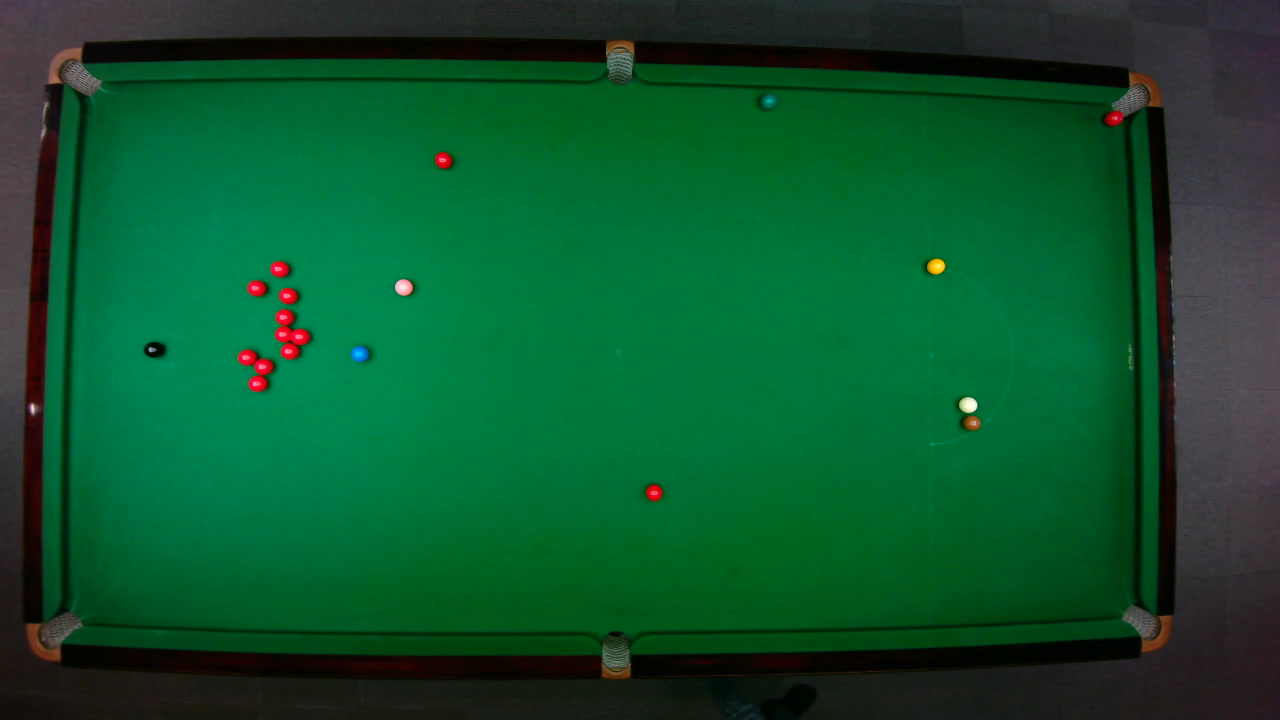bag: (24, 609, 84, 661), (45, 46, 101, 96), (1119, 603, 1171, 652), (1108, 71, 1161, 118), (600, 629, 629, 680), (605, 38, 633, 85)
black: (142, 340, 164, 358)
blue: (349, 344, 370, 362)
brown: (961, 414, 981, 430)
green: (759, 92, 776, 110)
pink: (392, 277, 413, 296)
red: (286, 326, 311, 345), (236, 347, 258, 366), (252, 356, 274, 375), (245, 278, 267, 296), (246, 374, 268, 392), (433, 150, 453, 169), (277, 286, 298, 304), (269, 259, 290, 277), (273, 307, 294, 325), (1102, 109, 1124, 126), (644, 482, 663, 501), (279, 342, 300, 359), (273, 325, 293, 342)
white: (957, 395, 977, 413)
yellow: (925, 256, 945, 274)
zone: (927, 262, 1014, 445)
